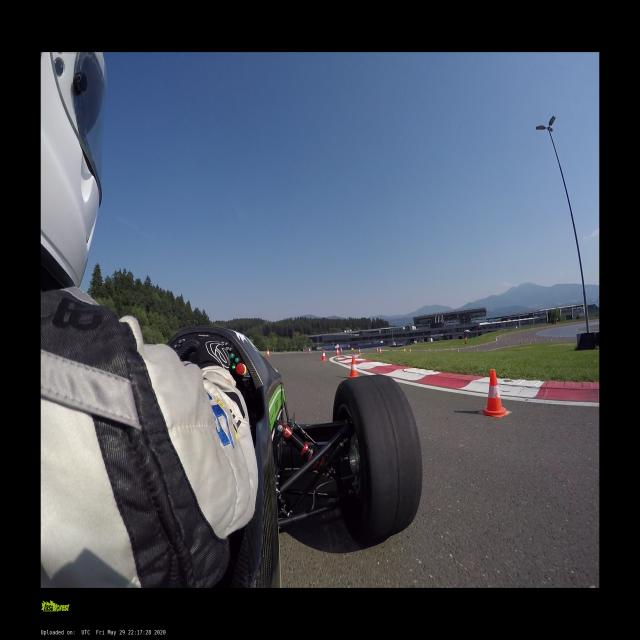orange_cone: (481, 368, 509, 418), (348, 357, 360, 379), (321, 350, 327, 361), (266, 350, 270, 356), (336, 348, 339, 356), (358, 348, 361, 353), (308, 347, 310, 353), (379, 348, 381, 353), (340, 347, 342, 352), (409, 348, 411, 352), (377, 347, 378, 352)
yellow_cone: (351, 348, 355, 351), (404, 349, 406, 352)
